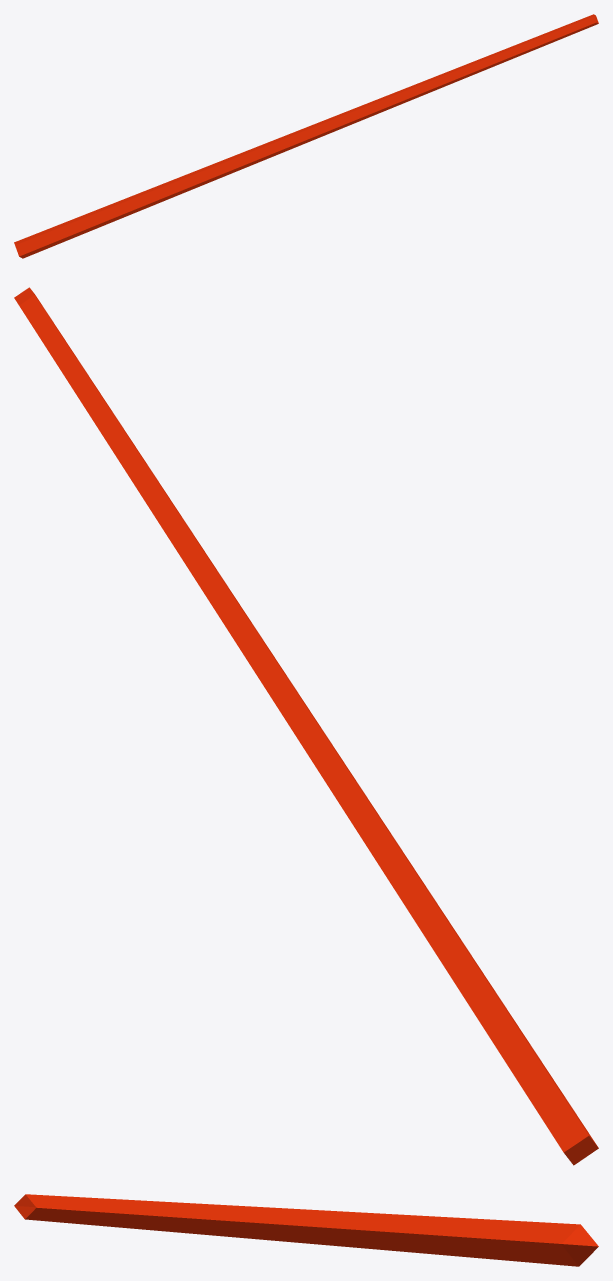
Rendered from Event_421364160_EBrechit_11.fbx.
The picture shows the model from 3 angles, top to bottom: view 1: azimuth 30°, elevation 25°; view 2: azimuth 150°, elevation 25°; view 3: azimuth 270°, elevation 25°; orthographic projection. The views are drawn at different scales.
Visible parts, largest first — view 1: Model; view 2: Model; view 3: Model.
Part boxes in pixels (bbox=[...]): Model: bbox=[14, 14, 598, 258]; Model: bbox=[14, 287, 598, 1165]; Model: bbox=[14, 1194, 598, 1266].
Size of the model in its own units: 3.15 by 1.68 by 1.89.
